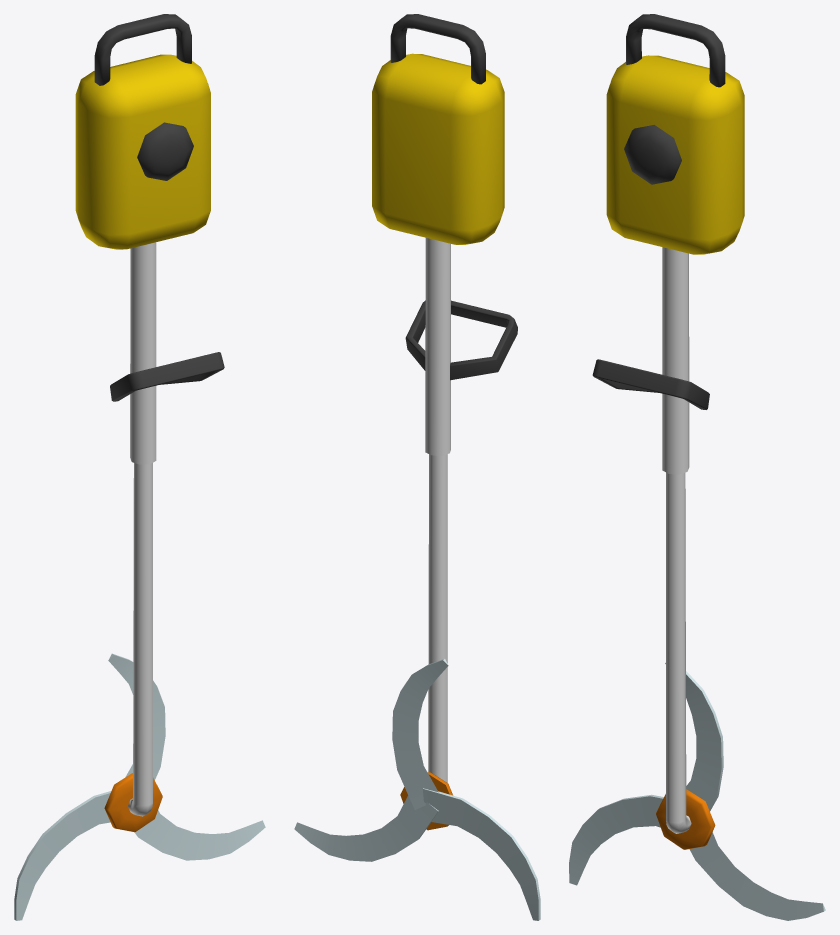
The model's file is Trimmer (1) 1.fbx.
The picture shows the model from 3 angles, left to right: view 1: azimuth 30°, elevation 25°; view 2: azimuth 150°, elevation 25°; view 3: azimuth 330°, elevation 25°; orthographic projection. The views are drawn at different scales.
Parts seen in each view (by area): view 1: pCube7, pCylinder1, pCube1, pCylinder2; view 2: pCube7, pCube1, pCylinder1, pCylinder2; view 3: pCube7, pCube1, pCylinder1, pCylinder2.
Boxes of the visible parts, <box> form: pCube7: <box>75,14,224,401</box>; pCylinder1: <box>104,463,162,832</box>; pCube1: <box>14,653,265,920</box>; pCylinder2: <box>130,242,156,464</box>; pCube7: <box>372,14,517,380</box>; pCube1: <box>294,659,540,920</box>; pCylinder1: <box>400,454,452,830</box>; pCylinder2: <box>425,238,450,456</box>; pCube7: <box>592,14,744,409</box>; pCube1: <box>569,663,825,920</box>; pCylinder1: <box>656,472,715,849</box>; pCylinder2: <box>662,247,689,474</box>.
Size of the model in its own units: 82.08 by 277 by 34.
